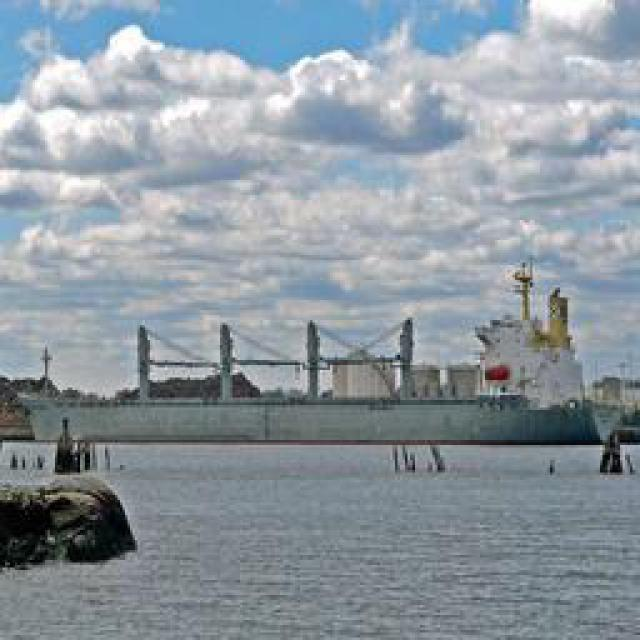Ship: (15, 253, 635, 450)
